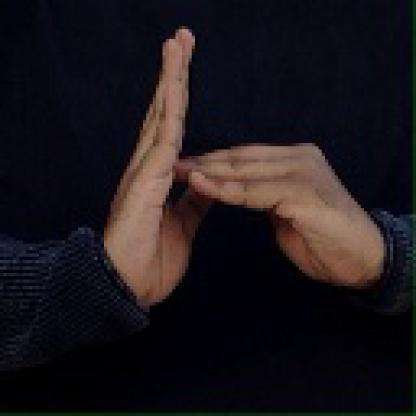Z: (106, 21, 348, 306)
